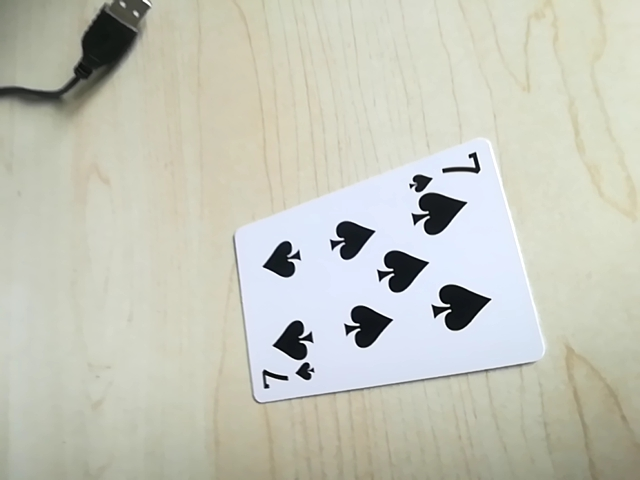ht 7: (410, 150, 489, 185), (252, 358, 319, 399)
